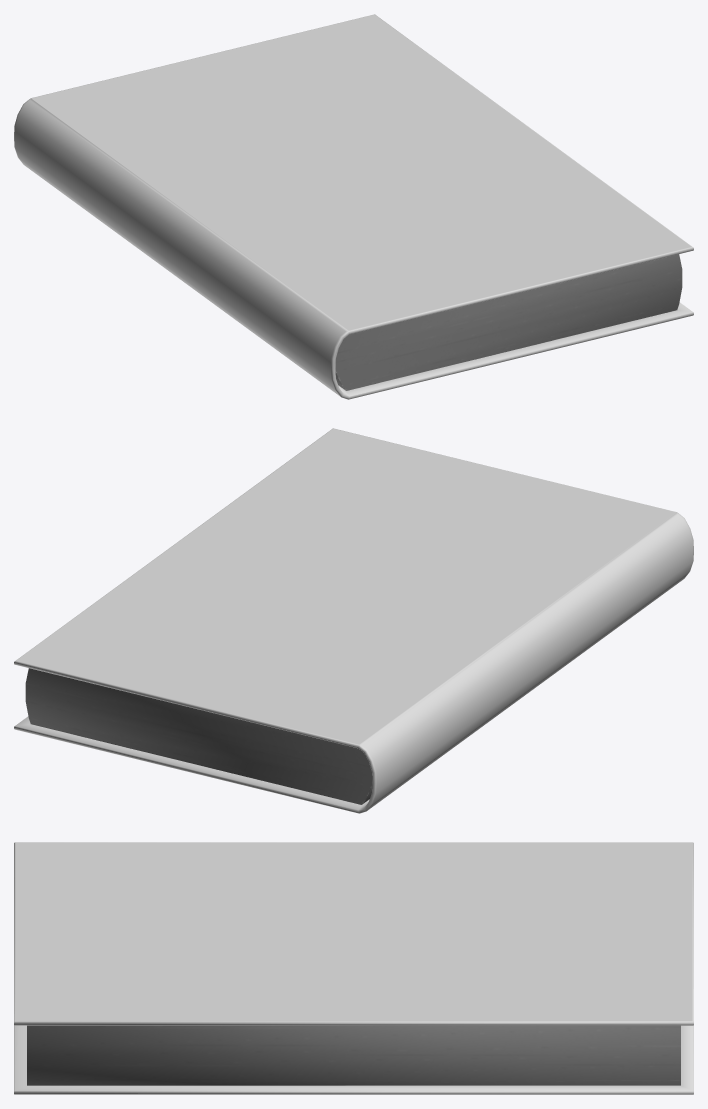
The model's file is Libro.fbx.
3 renders of one model, top to bottom at view 1: azimuth 30°, elevation 25°; view 2: azimuth 150°, elevation 25°; view 3: azimuth 270°, elevation 25°, orthographic. The views are drawn at different scales.
Parts seen in each view (by area): view 1: Cube, Cube.001; view 2: Cube, Cube.001; view 3: Cube, Cube.001.
Part boxes in pixels (x1,y1,x2,y2): Cube: (14,14,693,399); Cube.001: (335,254,682,390); Cube: (14,428,693,813); Cube.001: (25,668,372,804); Cube: (14,842,693,1094); Cube.001: (27,1025,680,1085).
Bounding box in the file's own units: 105 × 19 × 160.
